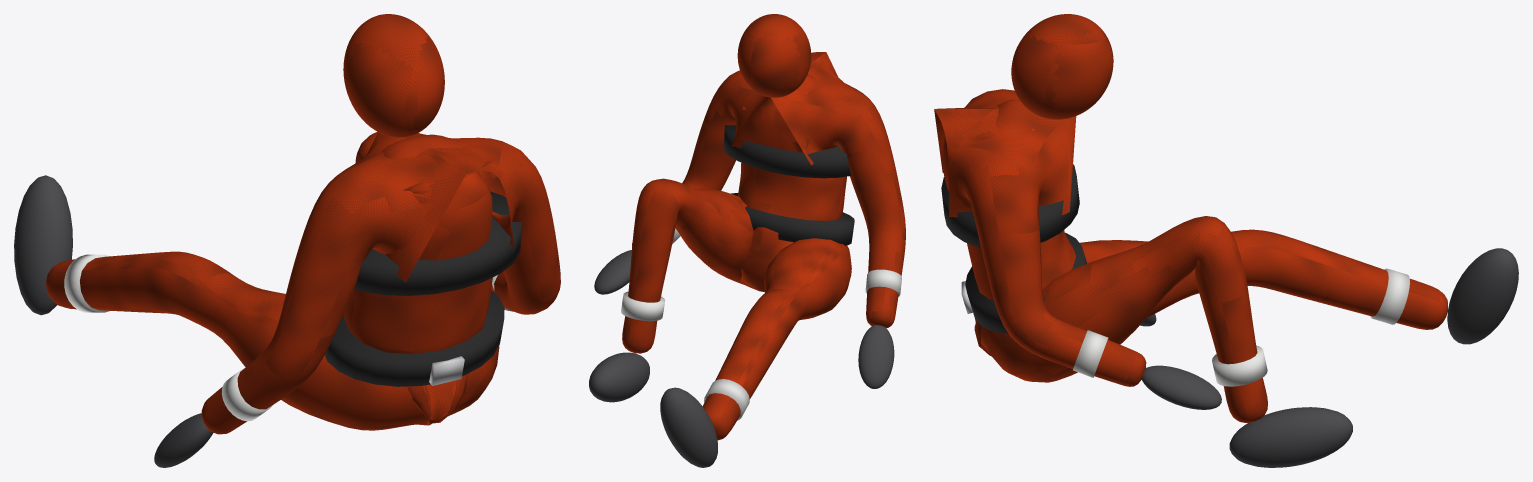
Rendered from dummy_sitting.glb.
3 renders of one model, left to right at view 1: azimuth 30°, elevation 25°; view 2: azimuth 150°, elevation 25°; view 3: azimuth 270°, elevation 25°, orthographic. The views are drawn at different scales.
Visible parts, largest first — view 1: dummy_sitting; view 2: dummy_sitting; view 3: dummy_sitting.
Part boxes in pixels (x1,y1,x2,y2): dummy_sitting: (14,14,560,467); dummy_sitting: (589,14,905,467); dummy_sitting: (934,14,1518,467).
Bounding box in the file's own units: 0.7522 × 0.8989 × 1.16.
Materials: 5 (1 with a texture image).
